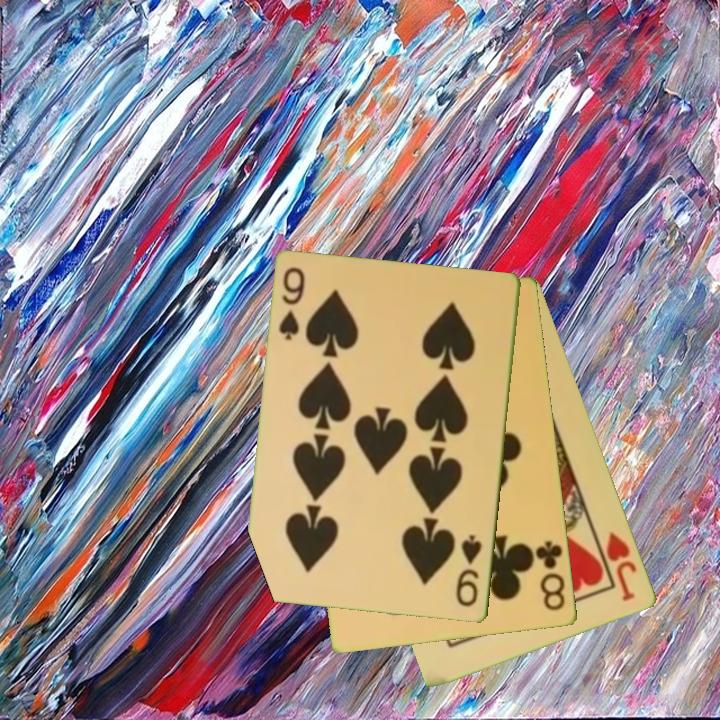8c: (532, 537, 569, 614)
9s: (275, 264, 309, 343), (452, 531, 485, 610)
Jh: (603, 528, 640, 605)
